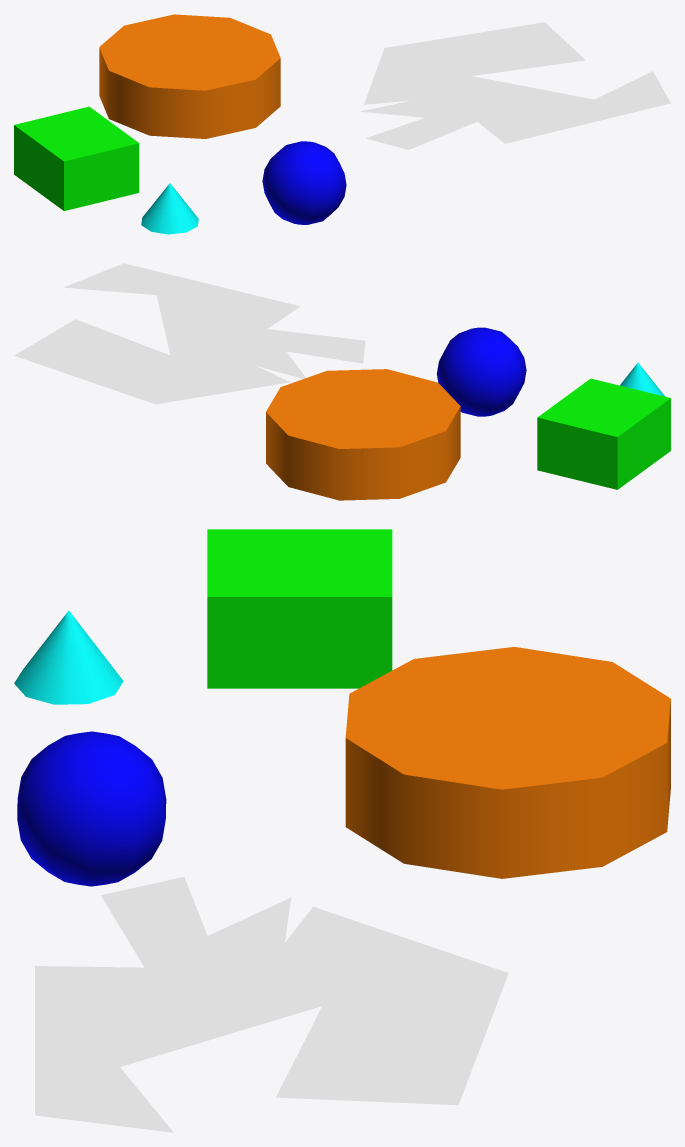
The model's file is Simple Object.fbx.
The picture shows the model from 3 angles, top to bottom: view 1: azimuth 30°, elevation 25°; view 2: azimuth 150°, elevation 25°; view 3: azimuth 270°, elevation 25°; orthographic projection. The views are drawn at different scales.
Visible parts, largest first — view 1: Object_1_2, Object_3, Object_1, Object_4, Object_2; view 2: Object_1_2, Object_3, Object_1, Object_4, Object_2; view 3: Object_1_2, Object_3, Object_1, Object_4, Object_2.
Part boxes in pixels (left/top/right/bottom): Object_1_2: left=360, top=22, right=670, bottom=149; Object_3: left=99, top=14, right=280, bottom=138; Object_1: left=14, top=106, right=139, bottom=210; Object_4: left=262, top=141, right=346, bottom=224; Object_2: left=141, top=183, right=198, bottom=234; Object_1_2: left=14, top=263, right=365, bottom=404; Object_3: left=266, top=369, right=460, bottom=500; Object_1: left=537, top=378, right=670, bottom=489; Object_4: left=437, top=327, right=526, bottom=416; Object_2: left=620, top=362, right=664, bottom=396; Object_1_2: left=35, top=877, right=508, bottom=1132; Object_3: left=345, top=647, right=670, bottom=878; Object_1: left=207, top=529, right=392, bottom=688; Object_4: left=17, top=731, right=166, bottom=886; Object_2: left=14, top=610, right=123, bottom=704.
Bounding box in the file's own units: 225 × 32.65 × 120.
